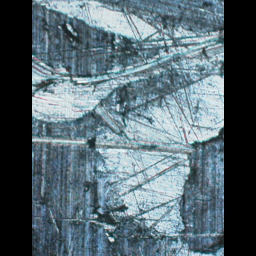d: (32, 0, 223, 256)
